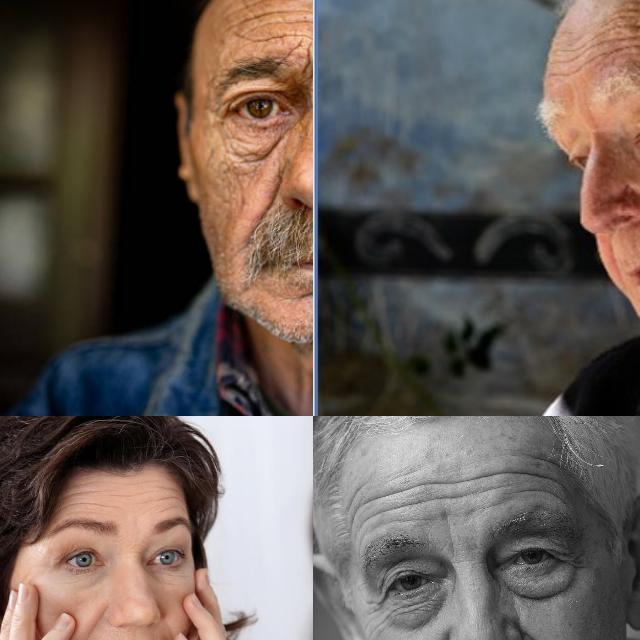chin: (294, 289, 313, 307)
crows_feet: (554, 543, 590, 585), (360, 596, 396, 626)
forehead: (229, 0, 296, 48), (359, 488, 428, 530), (564, 18, 610, 72), (432, 472, 493, 508), (501, 458, 559, 494), (144, 478, 180, 516), (65, 484, 107, 514), (625, 5, 640, 64)
frown_line: (442, 526, 464, 564), (304, 46, 313, 86)
gummy_smile: (264, 171, 284, 219), (606, 232, 626, 276), (85, 610, 104, 640)
